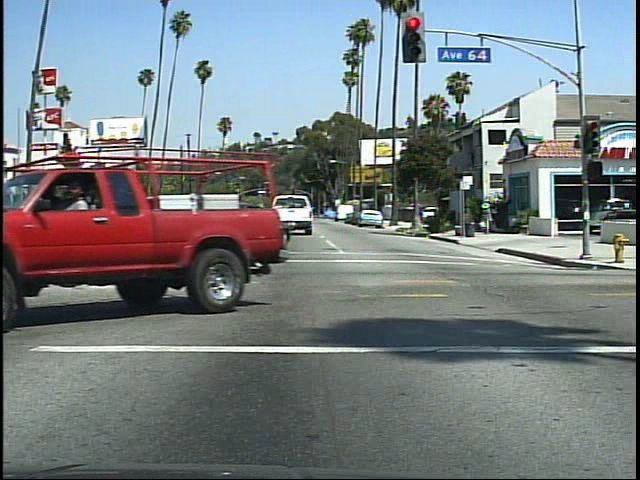person: (68, 174, 111, 311), (477, 199, 500, 238)
